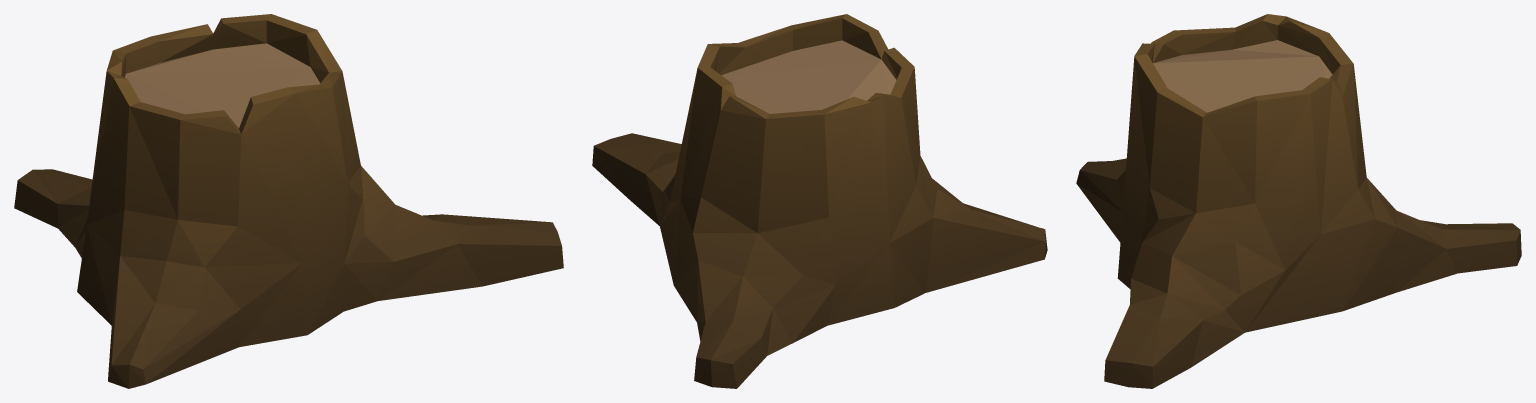
The model's file is Stump_01.fbx.
3 renders of one model, left to right at view 1: azimuth 30°, elevation 25°; view 2: azimuth 150°, elevation 25°; view 3: azimuth 270°, elevation 25°, orthographic. The views are drawn at different scales.
Parts seen in each view (by area): view 1: Stump_01; view 2: Stump_01; view 3: Stump_01.
Part boxes in pixels (x1=…): Stump_01: x1=14, y1=14, x2=563, y2=388; Stump_01: x1=592, y1=14, x2=1047, y2=388; Stump_01: x1=1076, y1=14, x2=1521, y2=388.
Bounding box in the file's own units: 1.78 × 0.8789 × 1.55.
